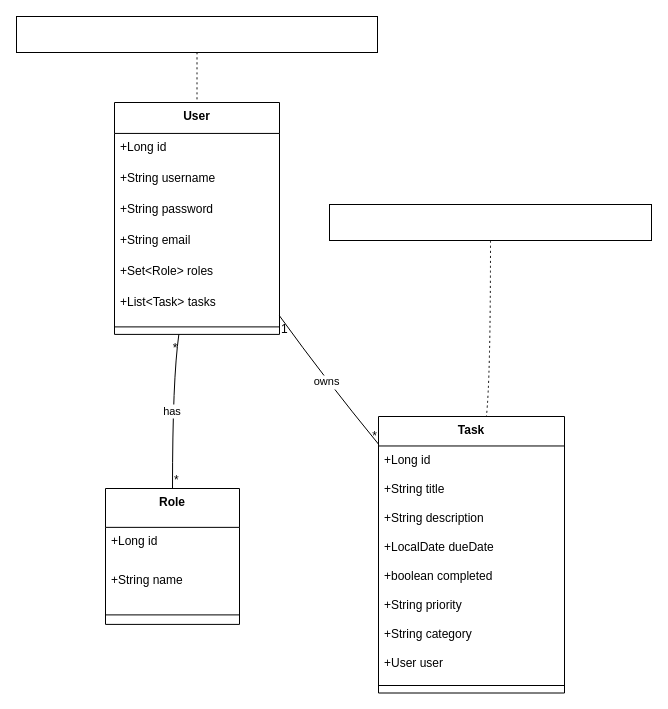
The diagram is 668 pixels wide and 709 high, and some of its shapes have lost their labels. The shapes that lost their labels are listed below. From the top down, each one's centre as x and y in pixels, then its label:
At point (197, 34): "FetchType.EAGER: Required for Security Context".
At point (490, 222): "FetchType.LAZY: Performance optimization".
